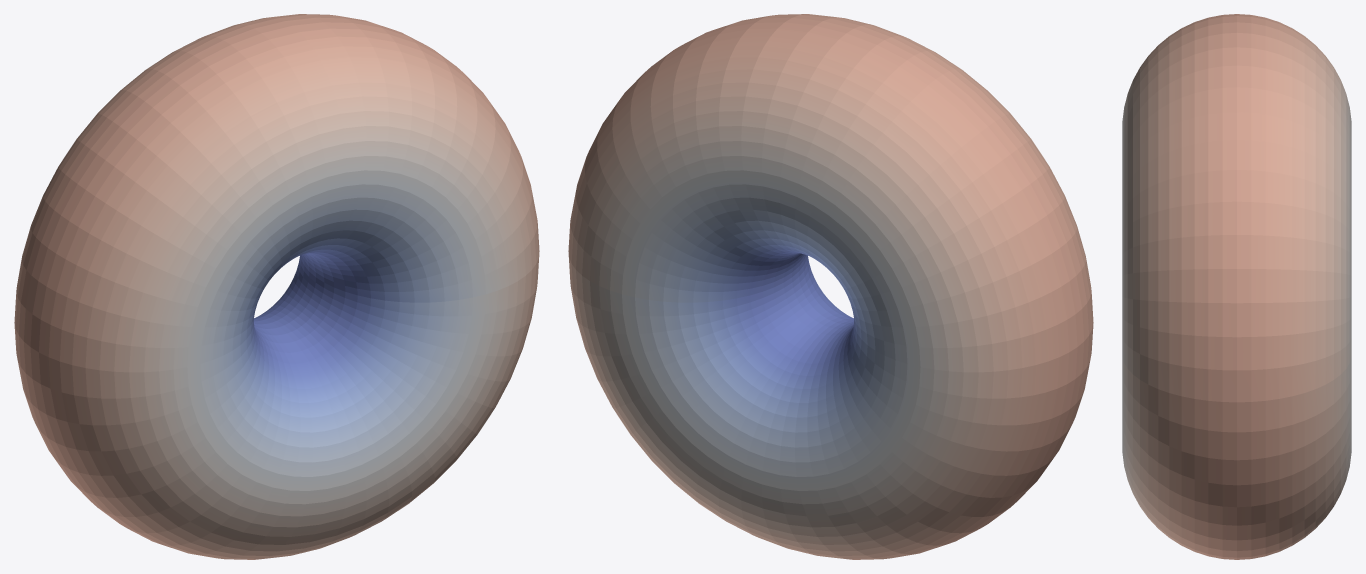
3 renders of one model, left to right at view 1: azimuth 30°, elevation 25°; view 2: azimuth 150°, elevation 25°; view 3: azimuth 270°, elevation 25°, orthographic. The views are drawn at different scales.
Parts seen in each view (by area): view 1: world; view 2: world; view 3: world.
Boxes of the visible parts, x1,y1,x2,y2 form: world: (14,14,539,559); world: (568,14,1093,559); world: (1122,14,1351,559).
Size of the model in its own units: 21.87 by 21.82 by 9.18.
